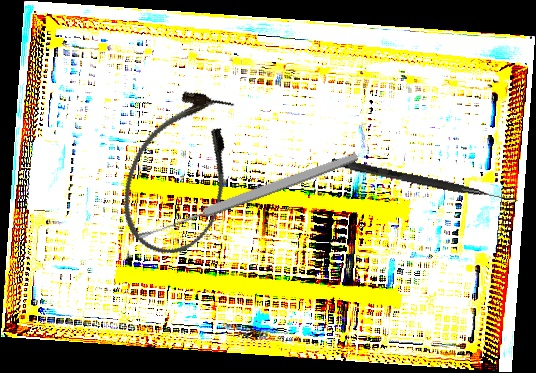Cannula: (106, 76, 256, 269)
Hook Surgical: (330, 157, 520, 205)
Surgical Spoon: (136, 150, 360, 243)
